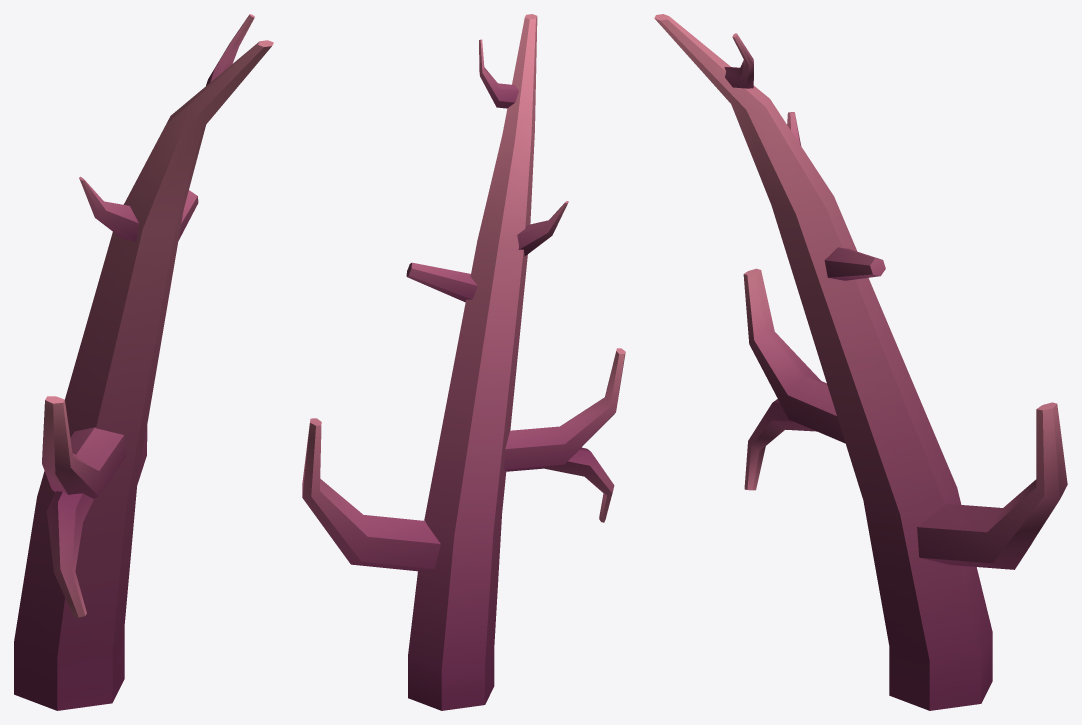
File: CoralReef_06.fbx
3 renders of one model, left to right at view 1: azimuth 30°, elevation 25°; view 2: azimuth 150°, elevation 25°; view 3: azimuth 270°, elevation 25°, orthographic. The views are drawn at different scales.
Parts seen in each view (by area): view 1: pPrism10; view 2: pPrism10; view 3: pPrism10.
Boxes of the visible parts, x1,y1,x2,y2 form: pPrism10: (14,14,273,710); pPrism10: (302,14,625,710); pPrism10: (654,14,1067,710).
Bounding box in the file's own units: 54.51 × 150 × 81.
Materials: 1 (1 with a texture image).
